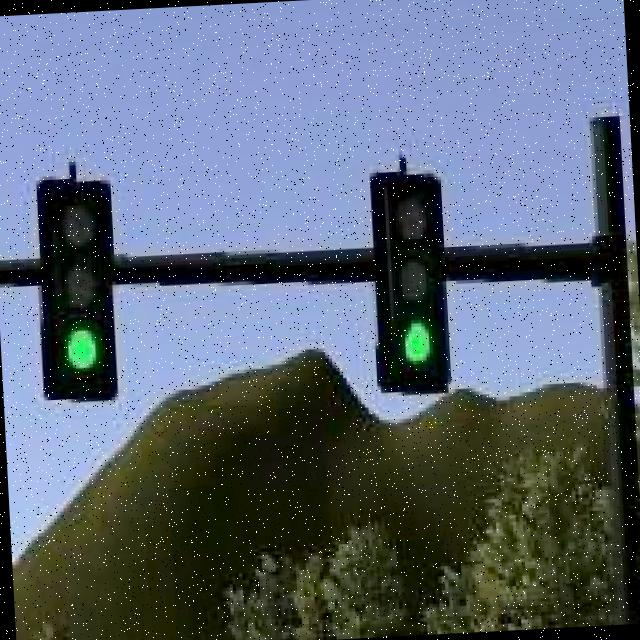Zielone swiatlo: (32, 173, 122, 404), (366, 170, 452, 398)
